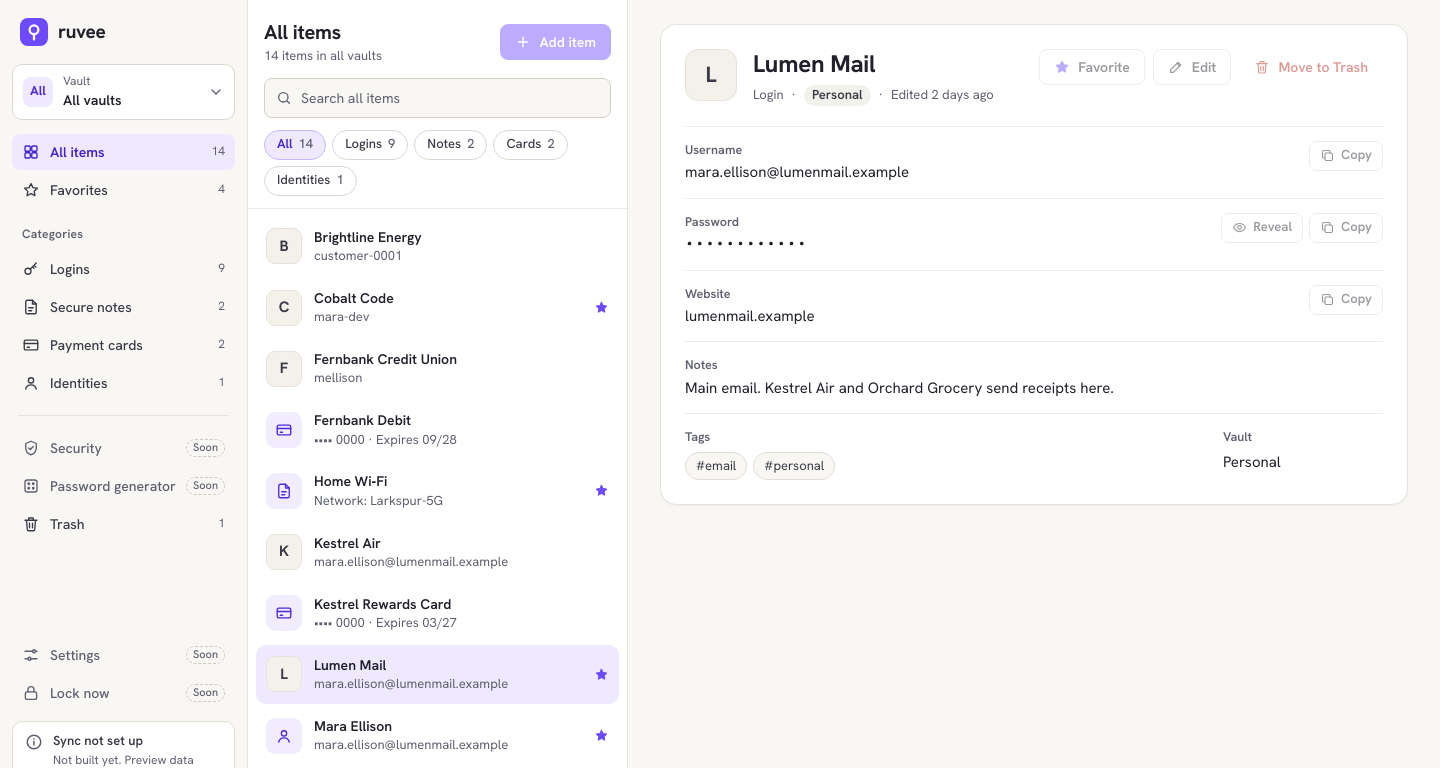
it: VaultShell › switches vaults from a keyboard-operable menu
Click the button "All Vault All vaults" at [124, 92], box [12,64,235,120]
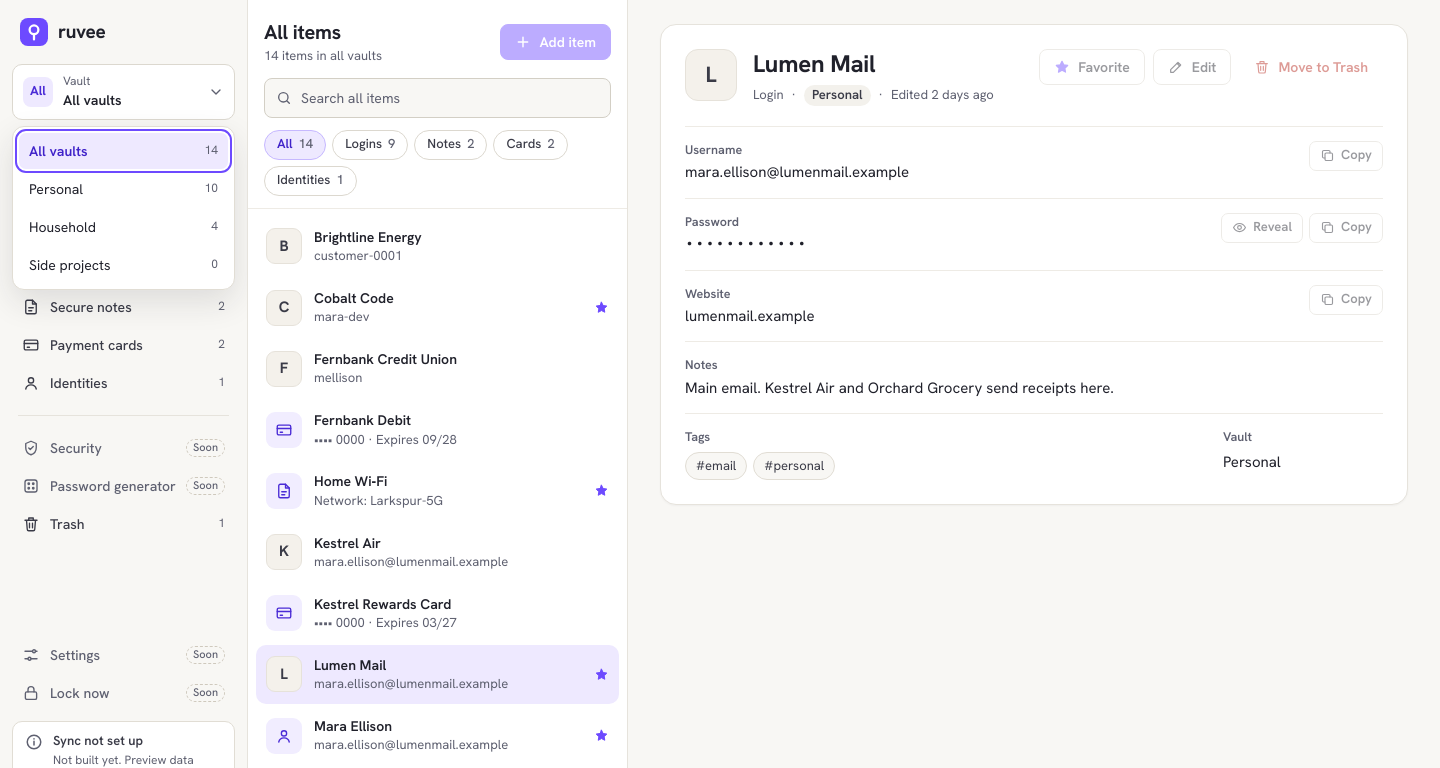
Press Escape
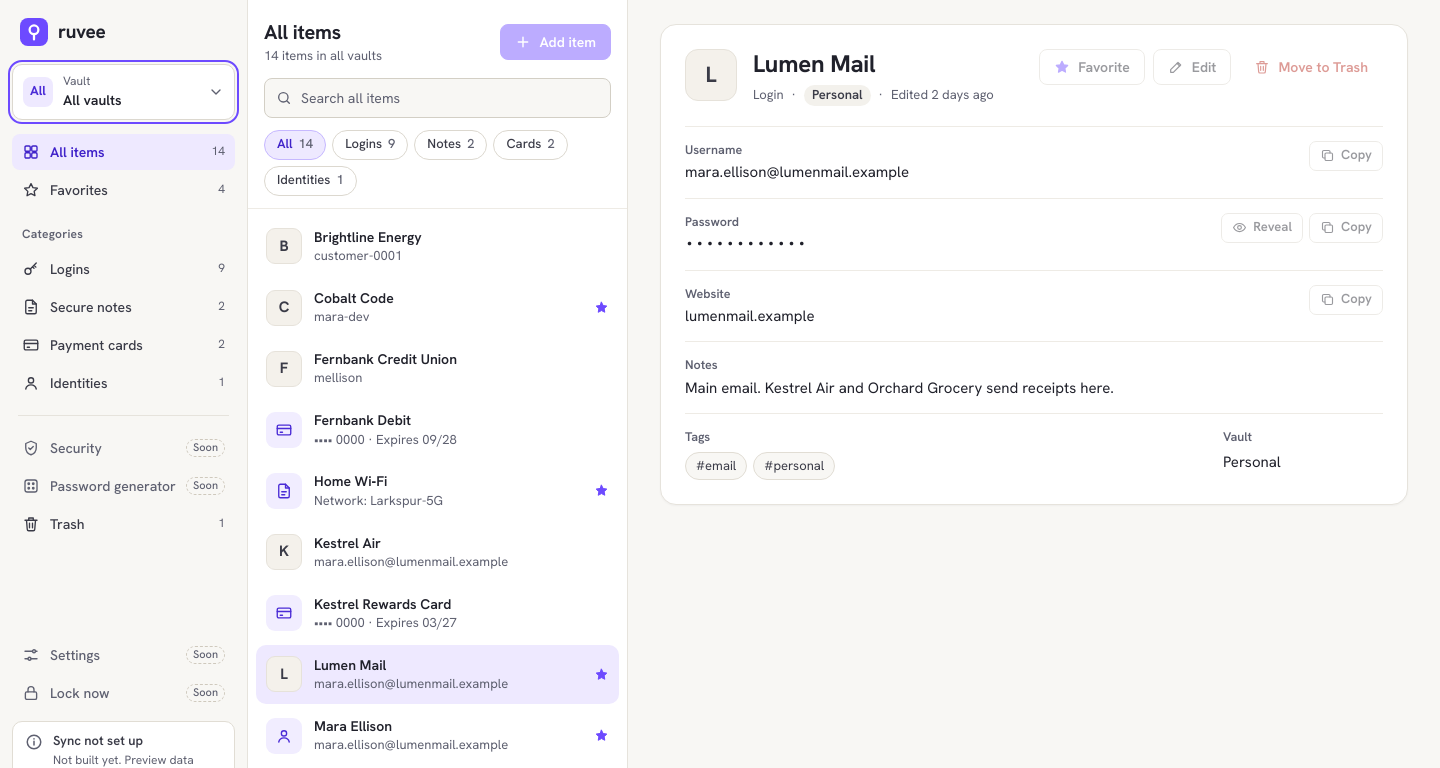
Check: the menu is gone
Click the button "All Vault All vaults" at [124, 92], box [12,64,235,120]
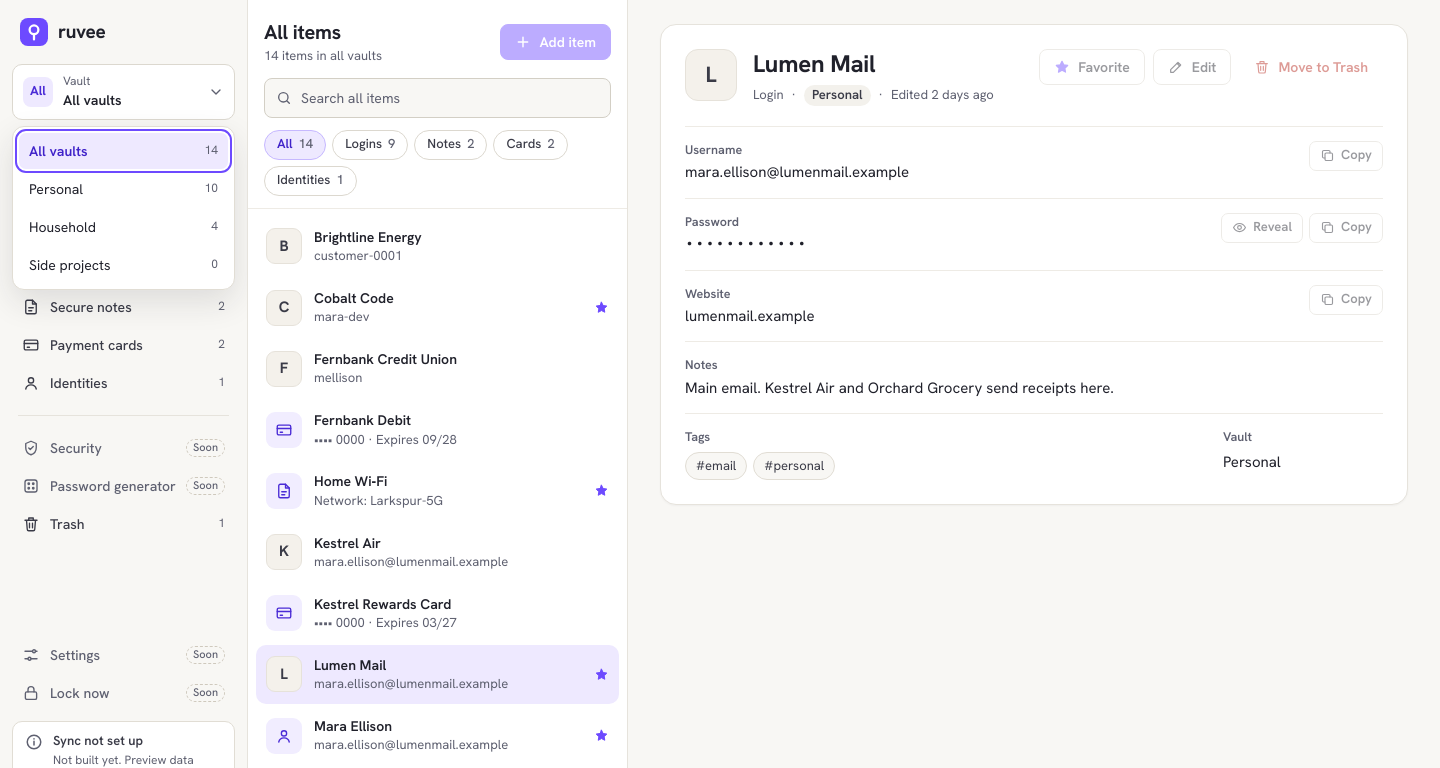
Click the menu item "Side projects 0" at [124, 265], box [19,247,228,283]
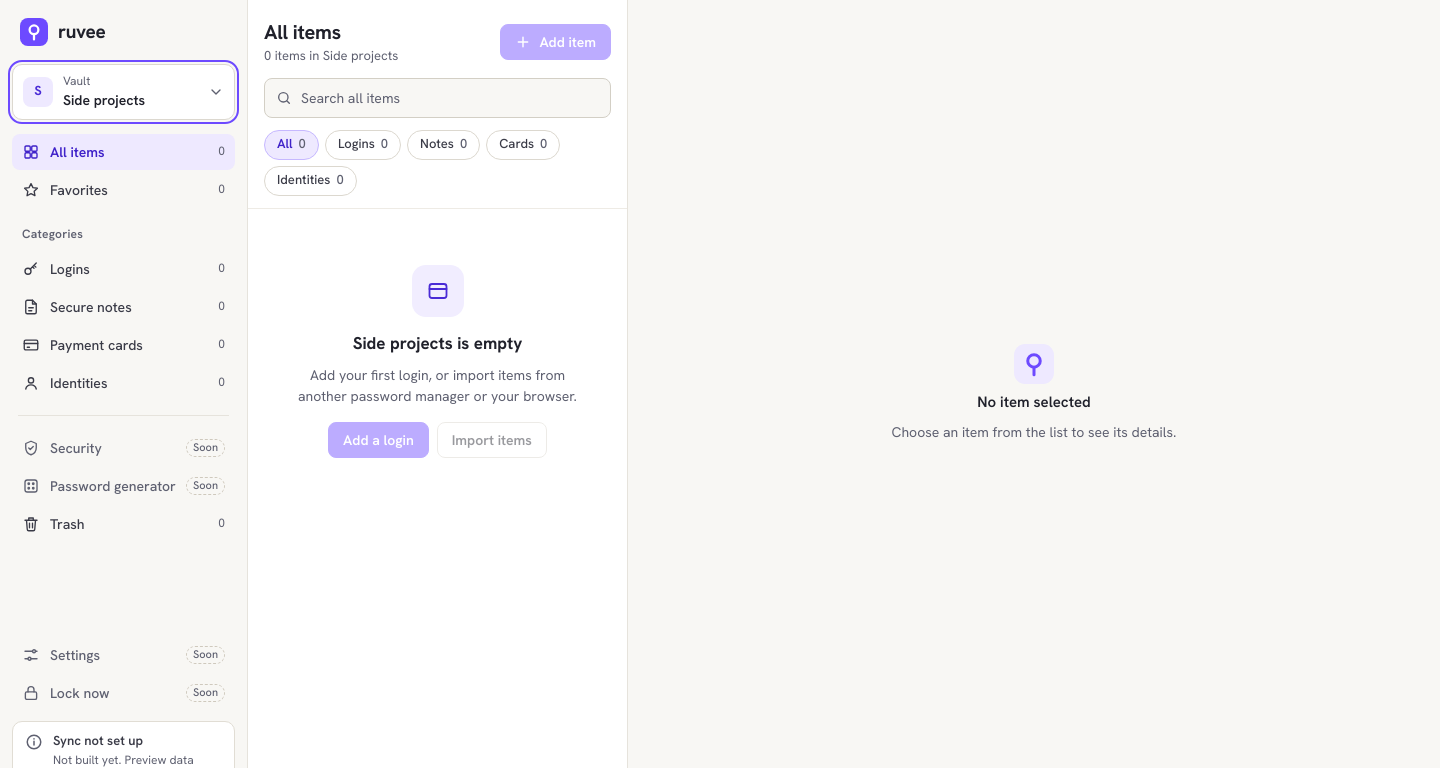
Check: the heading "Side projects is empty" is shown, box [353,331,522,355]
